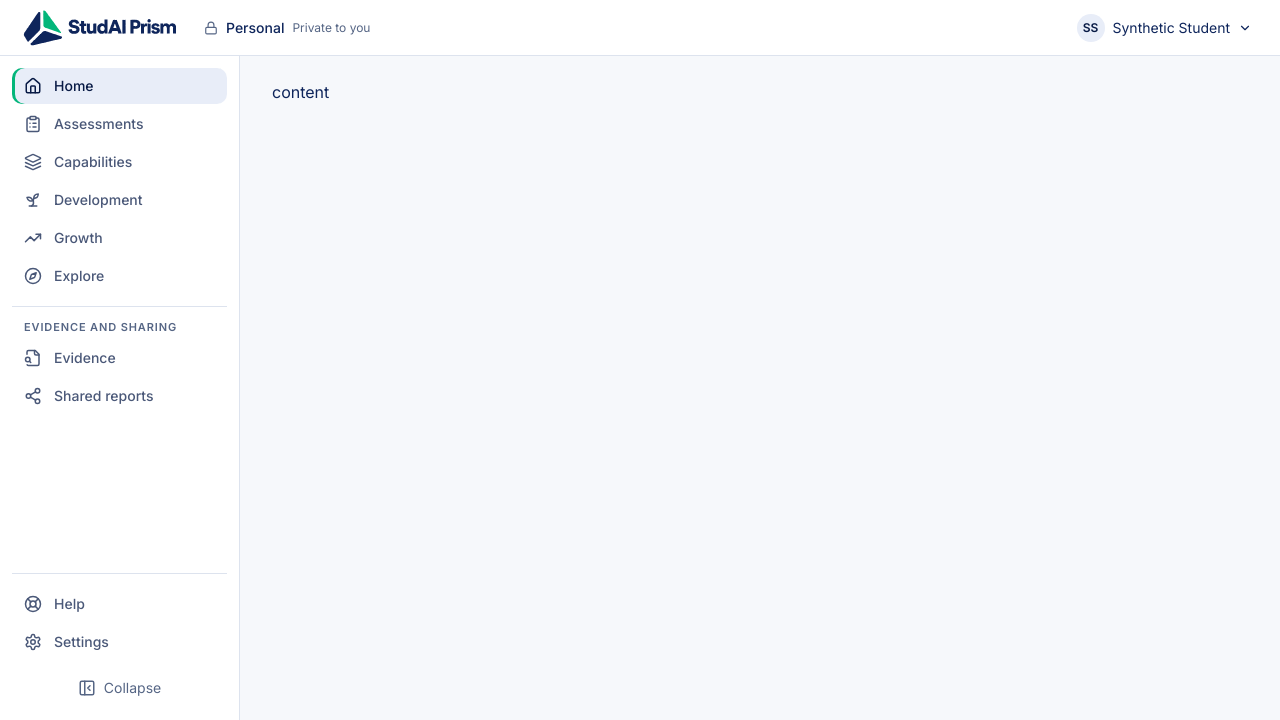
it: collapsible sidebar › collapses to icons, keeps every link nameable, remembers the choice, and expands again
Click the button with aria-label "Collapse navigation". click: (120, 688)
box: top-left (12, 668), bottom-right (227, 708)
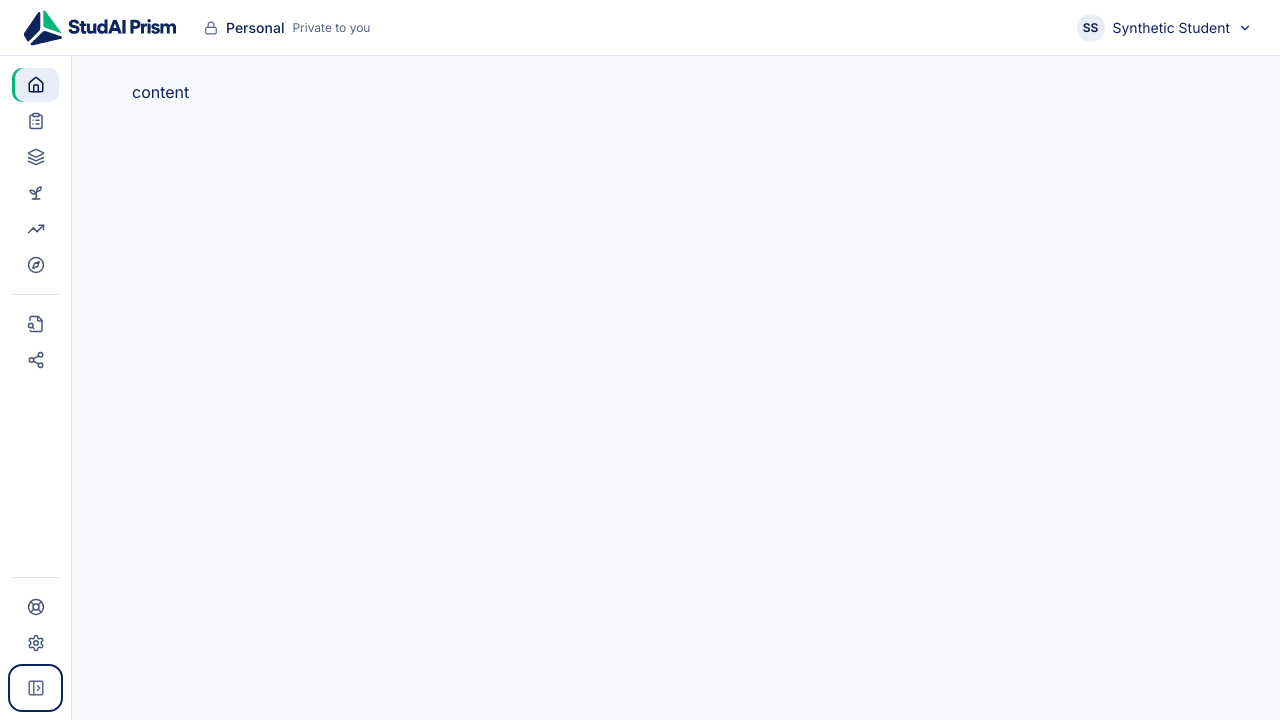
Now the button named "Expand navigation" is collapsed
Now the text "Evidence and sharing" is gone
Click the button named "Expand navigation". click: (36, 688)
box: top-left (12, 668), bottom-right (59, 708)
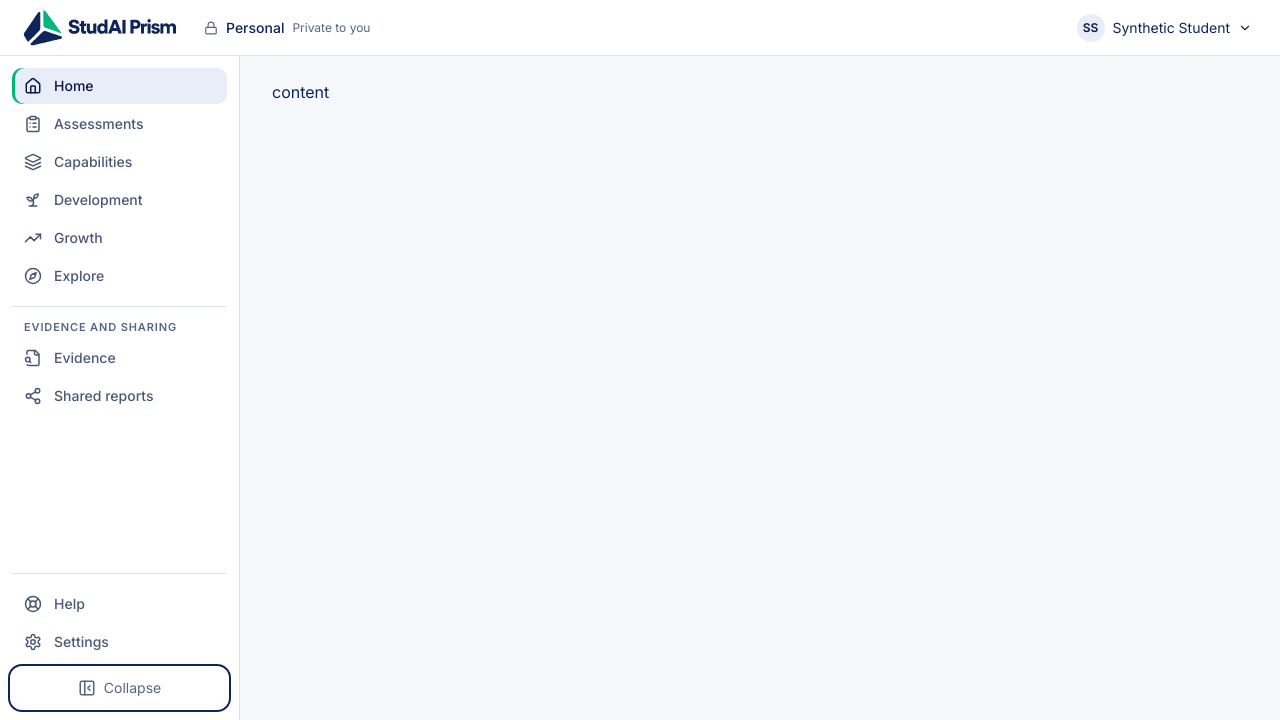
Now the text "Evidence and sharing" is shown, box top-left (24, 320), bottom-right (177, 334)
